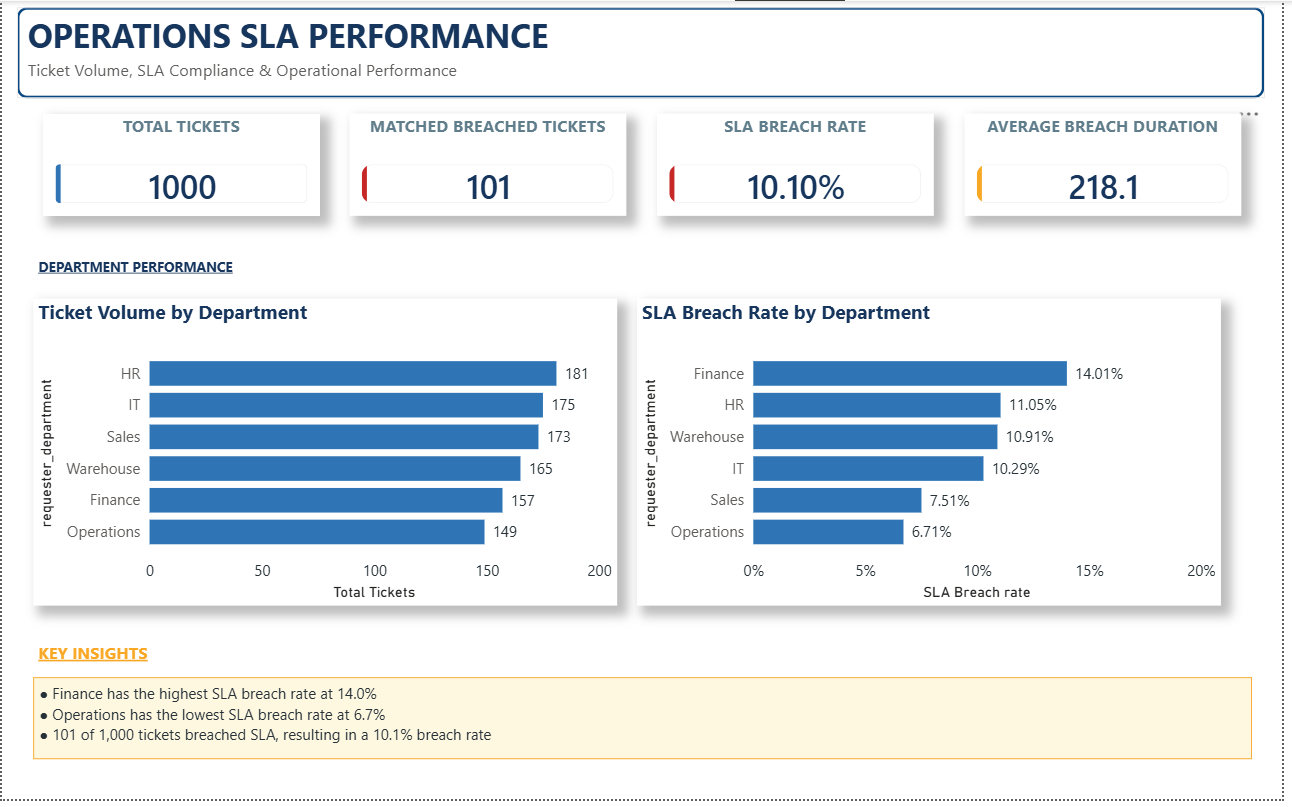

This screenshot's page, from the dashboard's own definition file:
{"tool":"powerbi","page":{"name":"Executive Overview","canvas":[1250,780],"ordinal":0},"visuals":[{"type":"textbox","title":"OPERATIONS SLA PERFORMANCE","box":[15,6.2,1218.8,88.8],"z":0},{"type":"cardVisual","title":"TOTAL TICKETS","fields":{"Data":["operations_sla tickets.Total Tickets"]},"box":[40,110.2,270,100],"z":1000},{"type":"cardVisual","title":"MATCHED BREACHED TICKETS","fields":{"Data":["operations_sla sla_breaches.Matched Breached Tickets"]},"box":[340,110,270,100],"z":2000},{"type":"cardVisual","title":"SLA BREACH RATE","fields":{"Data":["operations_sla tickets.SLA Breach rate"]},"box":[640,110,270,100],"z":3000},{"type":"cardVisual","title":"AVERAGE BREACH DURATION","fields":{"Data":["operations_sla sla_breaches.Average Breach Duration"]},"box":[940,110,270,100],"z":4000},{"type":"clusteredBarChart","title":"Ticket Volume by Department","fields":{"Category":["operations_sla tickets.requester_department"],"Y":["operations_sla tickets.Total Tickets"]},"box":[30.5,290,570,300],"z":5000},{"type":"clusteredBarChart","title":"SLA Breach Rate by Department","fields":{"Category":["operations_sla tickets.requester_department"],"Y":["operations_sla tickets.SLA Breach rate"]},"box":[620,290,570,300],"z":6000},{"type":"textbox","title":"DEPARTMENT PERFORMANCE","box":[30,245,1140,40],"z":7000},{"type":"textbox","box":[30.5,620,1139.5,34.5],"z":8000},{"type":"textbox","box":[30,660,1190,80],"z":9000}]}

Visuals, with their boxes in screenshot pixels (x1, y1, x2, y2), scaled from the page's 1250x780 canvas onto the 1292x807 screenshot:
"OPERATIONS SLA PERFORMANCE" textbox: Rect(16, 6, 1275, 98)
"TOTAL TICKETS" cardVisual: Rect(41, 114, 320, 217)
"MATCHED BREACHED TICKETS" cardVisual: Rect(351, 114, 630, 217)
"SLA BREACH RATE" cardVisual: Rect(662, 114, 941, 217)
"AVERAGE BREACH DURATION" cardVisual: Rect(972, 114, 1251, 217)
"Ticket Volume by Department" clusteredBarChart: Rect(32, 300, 621, 610)
"SLA Breach Rate by Department" clusteredBarChart: Rect(641, 300, 1230, 610)
"DEPARTMENT PERFORMANCE" textbox: Rect(31, 253, 1209, 295)
textbox: Rect(32, 641, 1209, 677)
textbox: Rect(31, 683, 1261, 766)
